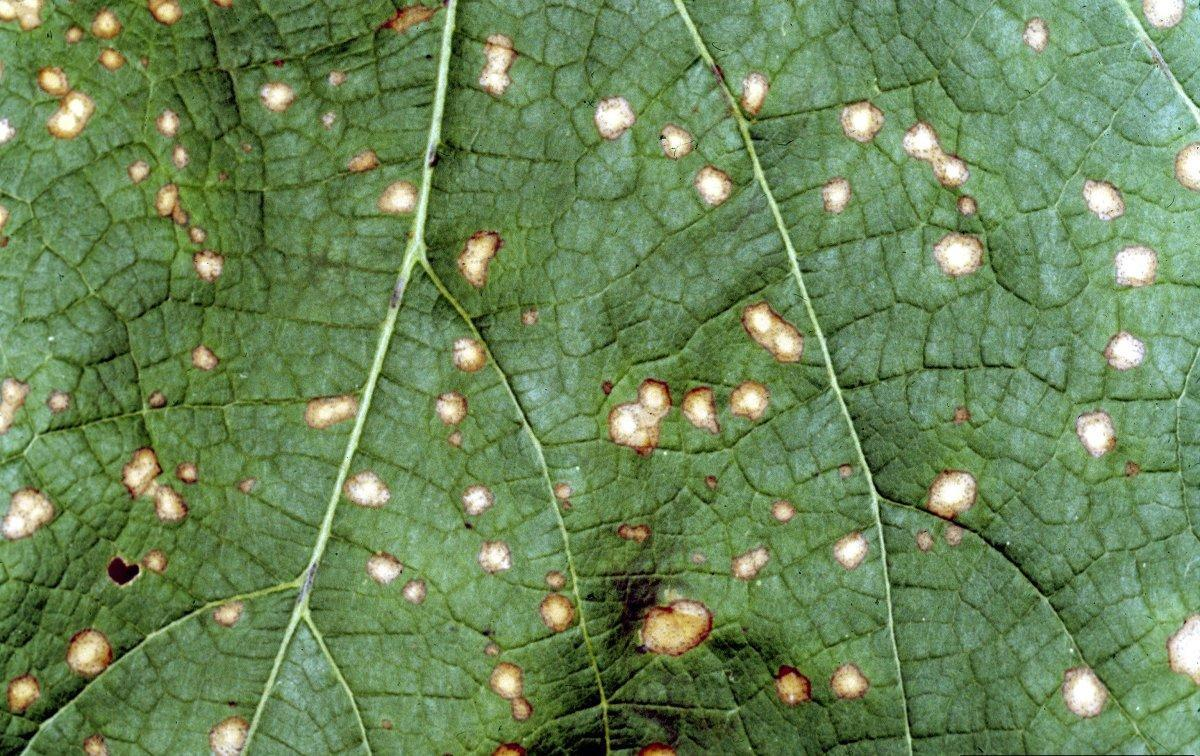black-spot: (827, 38, 1193, 583), (327, 258, 587, 756)
